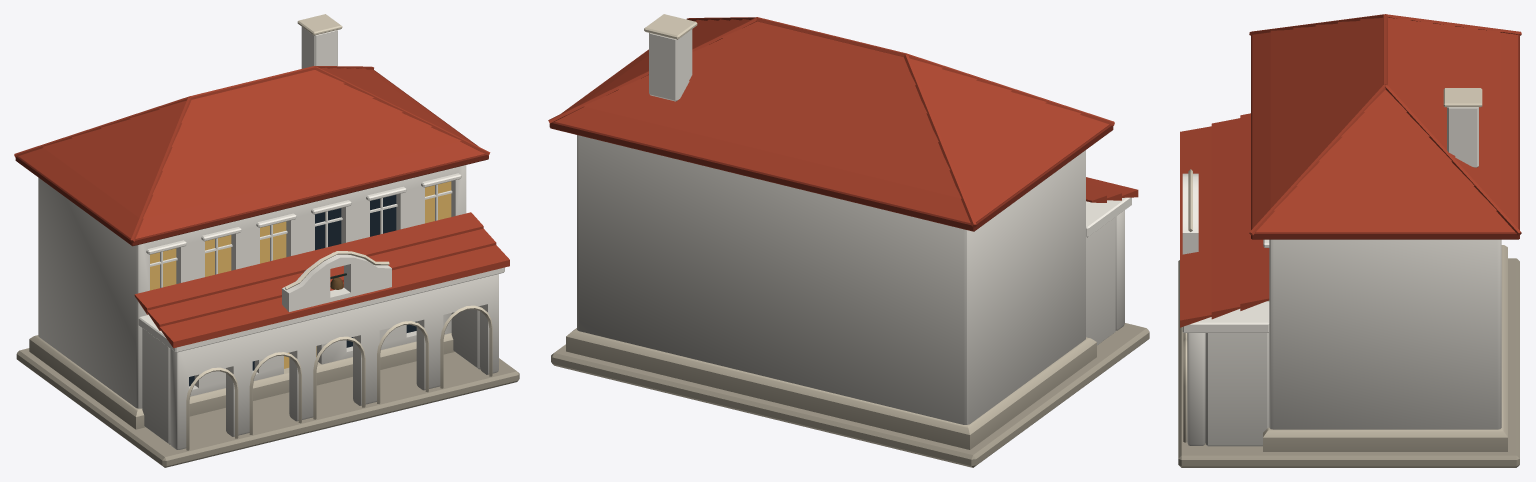
The model's file is bh_hale.glb.
The picture shows the model from 3 angles, left to right: view 1: azimuth 30°, elevation 25°; view 2: azimuth 150°, elevation 25°; view 3: azimuth 270°, elevation 25°; orthographic projection. The views are drawn at different scales.
Parts seen in each view (by area): view 1: bh_hale; view 2: bh_hale; view 3: bh_hale.
Boxes of the visible parts, x1,y1,x2,y2 form: bh_hale: (14, 14, 519, 467); bh_hale: (548, 14, 1149, 467); bh_hale: (1178, 14, 1521, 467).
Bounding box in the file's own units: 0.021 × 0.016 × 0.0151.
